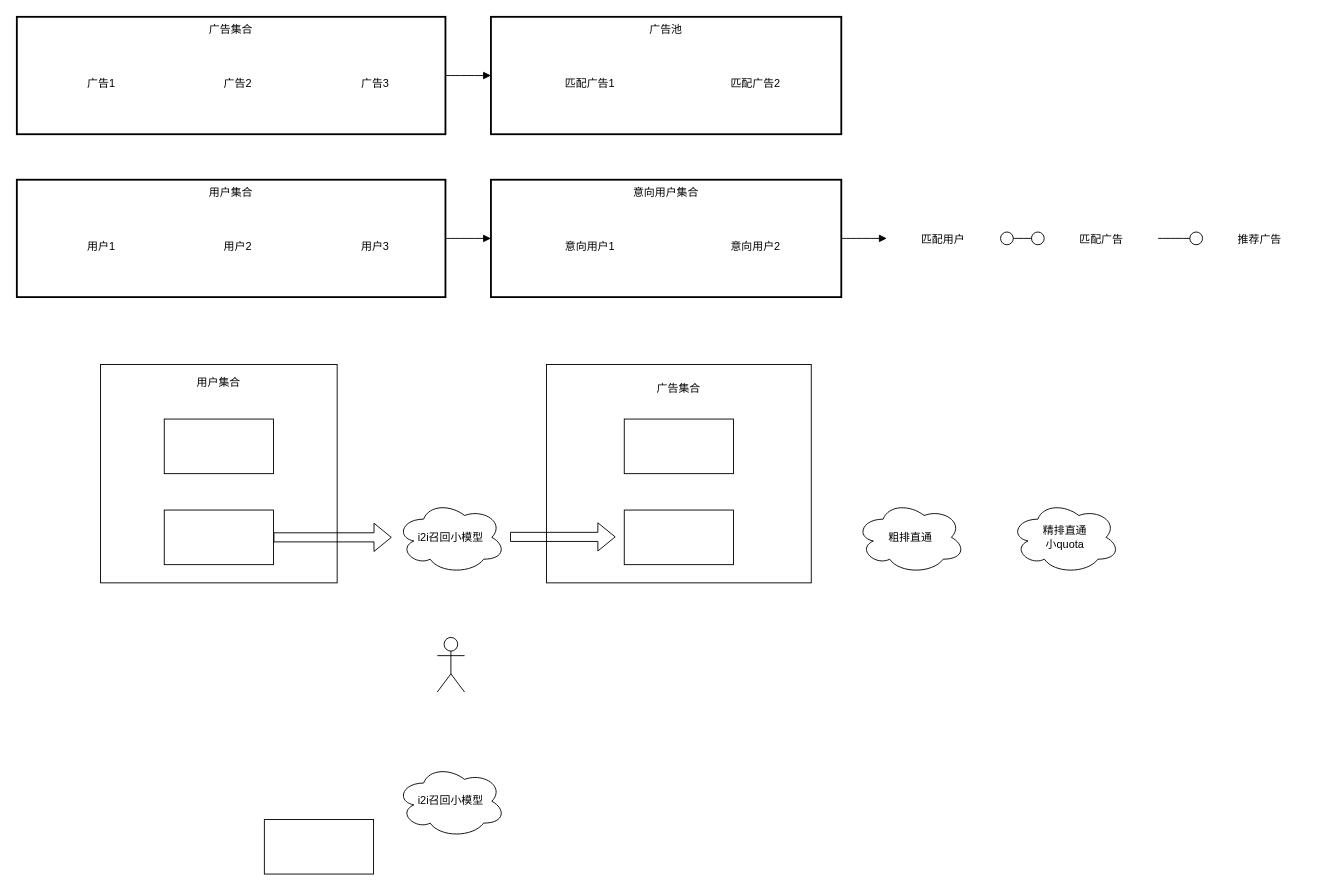
Image size: 1331x890. Some labels were removed from this diagram. Here are the shapes that lost their labels. From the top down, the centre of each, then its label:
point (218, 446): 其他用户
point (678, 446): 其他广告
point (218, 537): 高价值用户
point (678, 537): 精选商品广告
point (450, 664): 高价值人群
